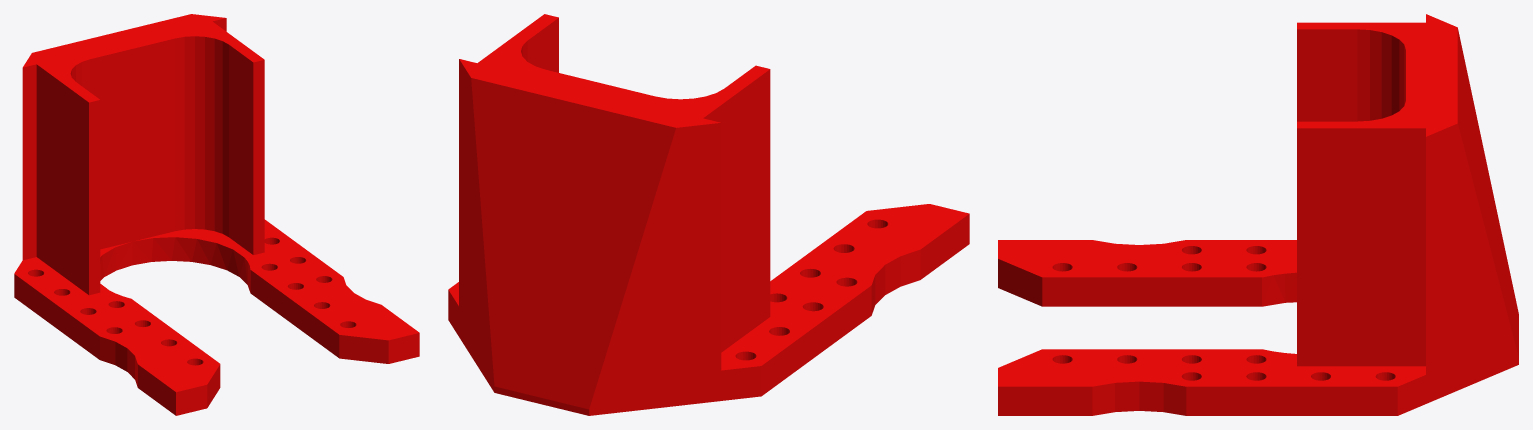
The model's file is hip_chassis.dae.
The picture shows the model from 3 angles, left to right: view 1: azimuth 30°, elevation 25°; view 2: azimuth 150°, elevation 25°; view 3: azimuth 270°, elevation 25°; orthographic projection. The views are drawn at different scales.
Parts seen in each view (by area): view 1: node0_001; view 2: node0_001; view 3: node0_001.
Boxes of the visible parts, <box> form: node0_001: <box>14,14,419,415</box>; node0_001: <box>448,14,969,415</box>; node0_001: <box>998,14,1518,415</box>.
Bounding box in the file's own units: 43 × 64.5 × 36.5.
